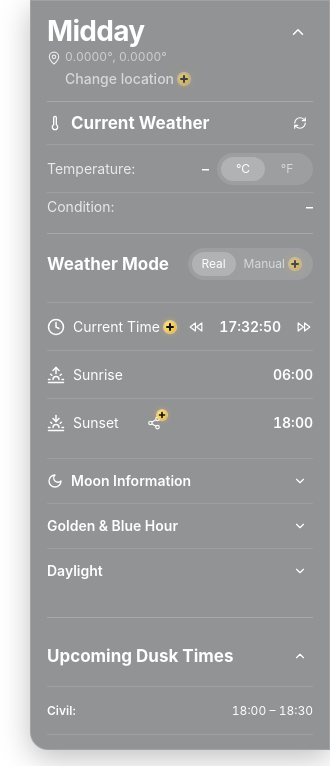
Scenario: InfoPanel › place-name search (ROADMAP 12) › shows "No results" for an empty response and an error state for a failed request
The image size is (330, 766).
Click the button "Change location". click: (128, 79)
box: [65,69,190,89]
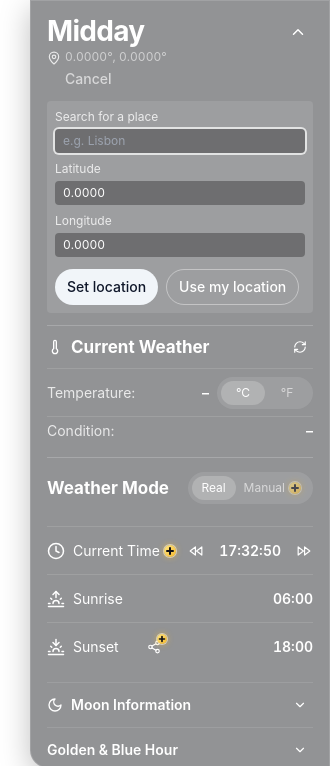
Type "Nowhereville" into the dropdown labelled "Search for a place". click: (180, 141)
box: [55,129,305,153]
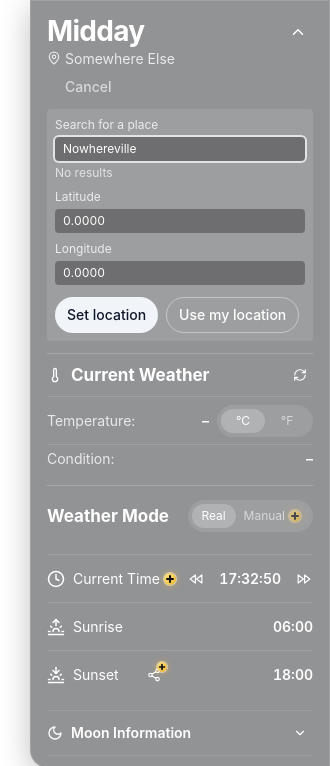
Check: the text "No results" is shown, box [55,165,113,180]
Replace the text in the dropdown labelled "Search for a place" with "Errorville". click: (180, 149)
box: [55,137,305,161]
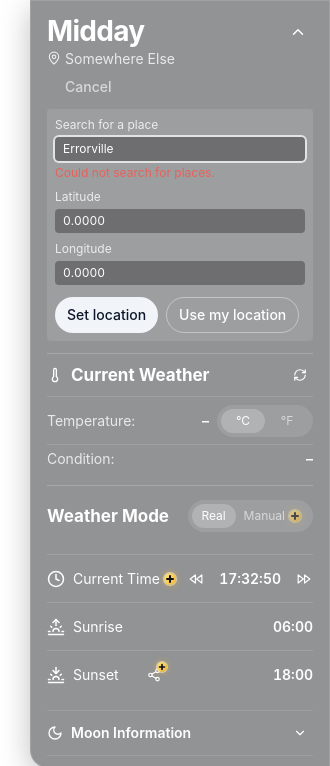
Check: the message shows "Could not search", box [55,165,215,180]
